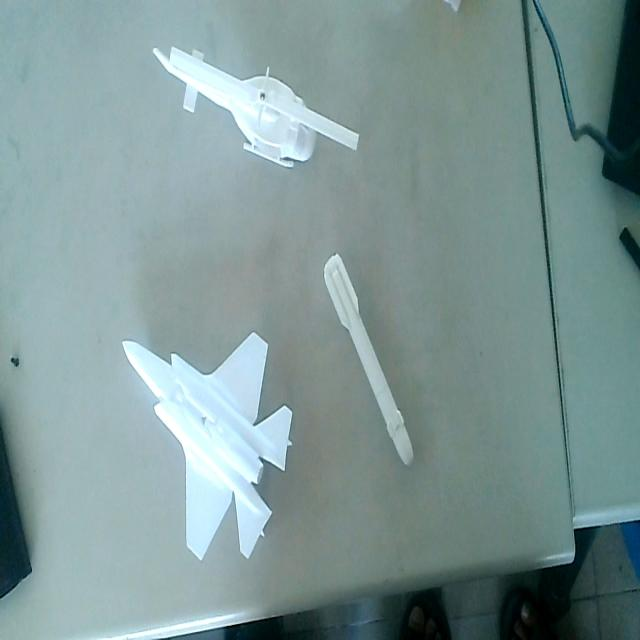Helicopter: (150, 27, 358, 188)
Jet: (120, 326, 294, 567)
Rocket: (320, 248, 416, 475)
